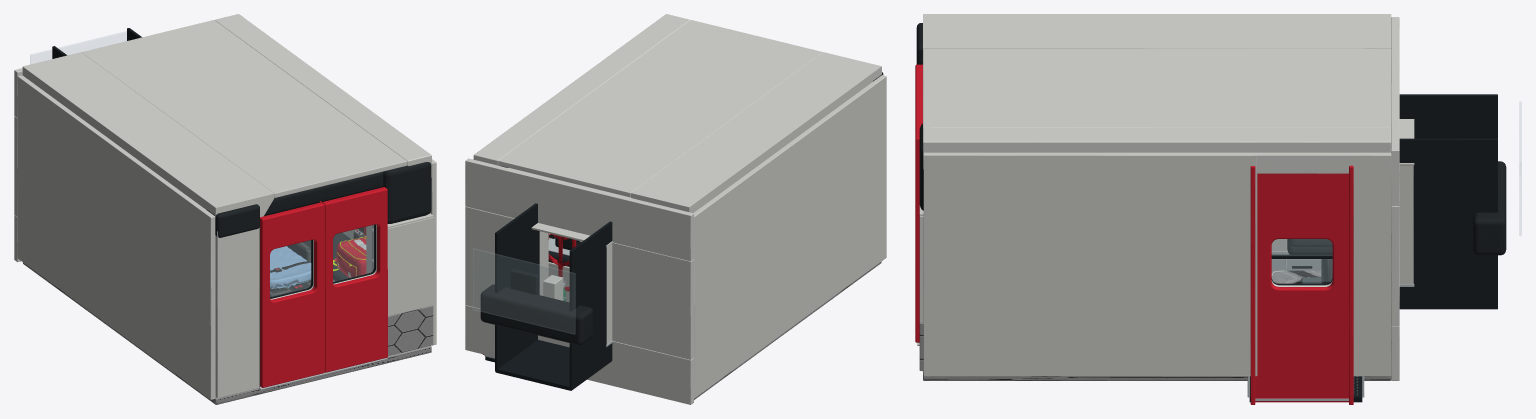
Rendered from ambulance.glb.
3 views of the same model, side by side, from view 1: azimuth 30°, elevation 25°; view 2: azimuth 150°, elevation 25°; view 3: azimuth 270°, elevation 25° (orthographic). The views are drawn at different scales.
Visible parts, largest first — view 1: STATIC_CABIN, PART_phys_rear_door_left, PART_phys_rear_door_right, PART_red_bench_backpack, PART_phys_squad_bench_storage_lid; view 2: STATIC_CABIN, PART_phys_cab_right_return_glove_dispenser_carton, PART_ecg_end_barrier_connected_webbing_and_wall_ties; view 3: STATIC_CABIN, PART_phys_curbside_entry_door, PART_phys_side_door_sliding_lower_glass_pane, PART_phys_rear_door_right.
Boxes of the visible parts, x1=… form: STATIC_CABIN: x1=14, y1=14, x2=436, y2=404; PART_phys_rear_door_left: x1=260, y1=201, x2=324, y2=387; PART_phys_rear_door_right: x1=322, y1=187, x2=387, y2=372; PART_red_bench_backpack: x1=333, y1=236, x2=366, y2=277; PART_phys_squad_bench_storage_lid: x1=302, y1=232, x2=351, y2=281; STATIC_CABIN: x1=465, y1=14, x2=886, y2=404; PART_phys_cab_right_return_glove_dispenser_carton: x1=543, y1=275, x2=563, y2=300; PART_ecg_end_barrier_connected_webbing_and_wall_ties: x1=548, y1=233, x2=576, y2=291; STATIC_CABIN: x1=916, y1=14, x2=1521, y2=404; PART_phys_curbside_entry_door: x1=1255, y1=173, x2=1348, y2=402; PART_phys_side_door_sliding_lower_glass_pane: x1=1272, y1=259, x2=1332, y2=281; PART_phys_rear_door_right: x1=915, y1=101, x2=922, y2=342.
Size of the model in its own units: 2.49 by 2.24 by 4.72.
Materials: 64 (3 with a texture image).
